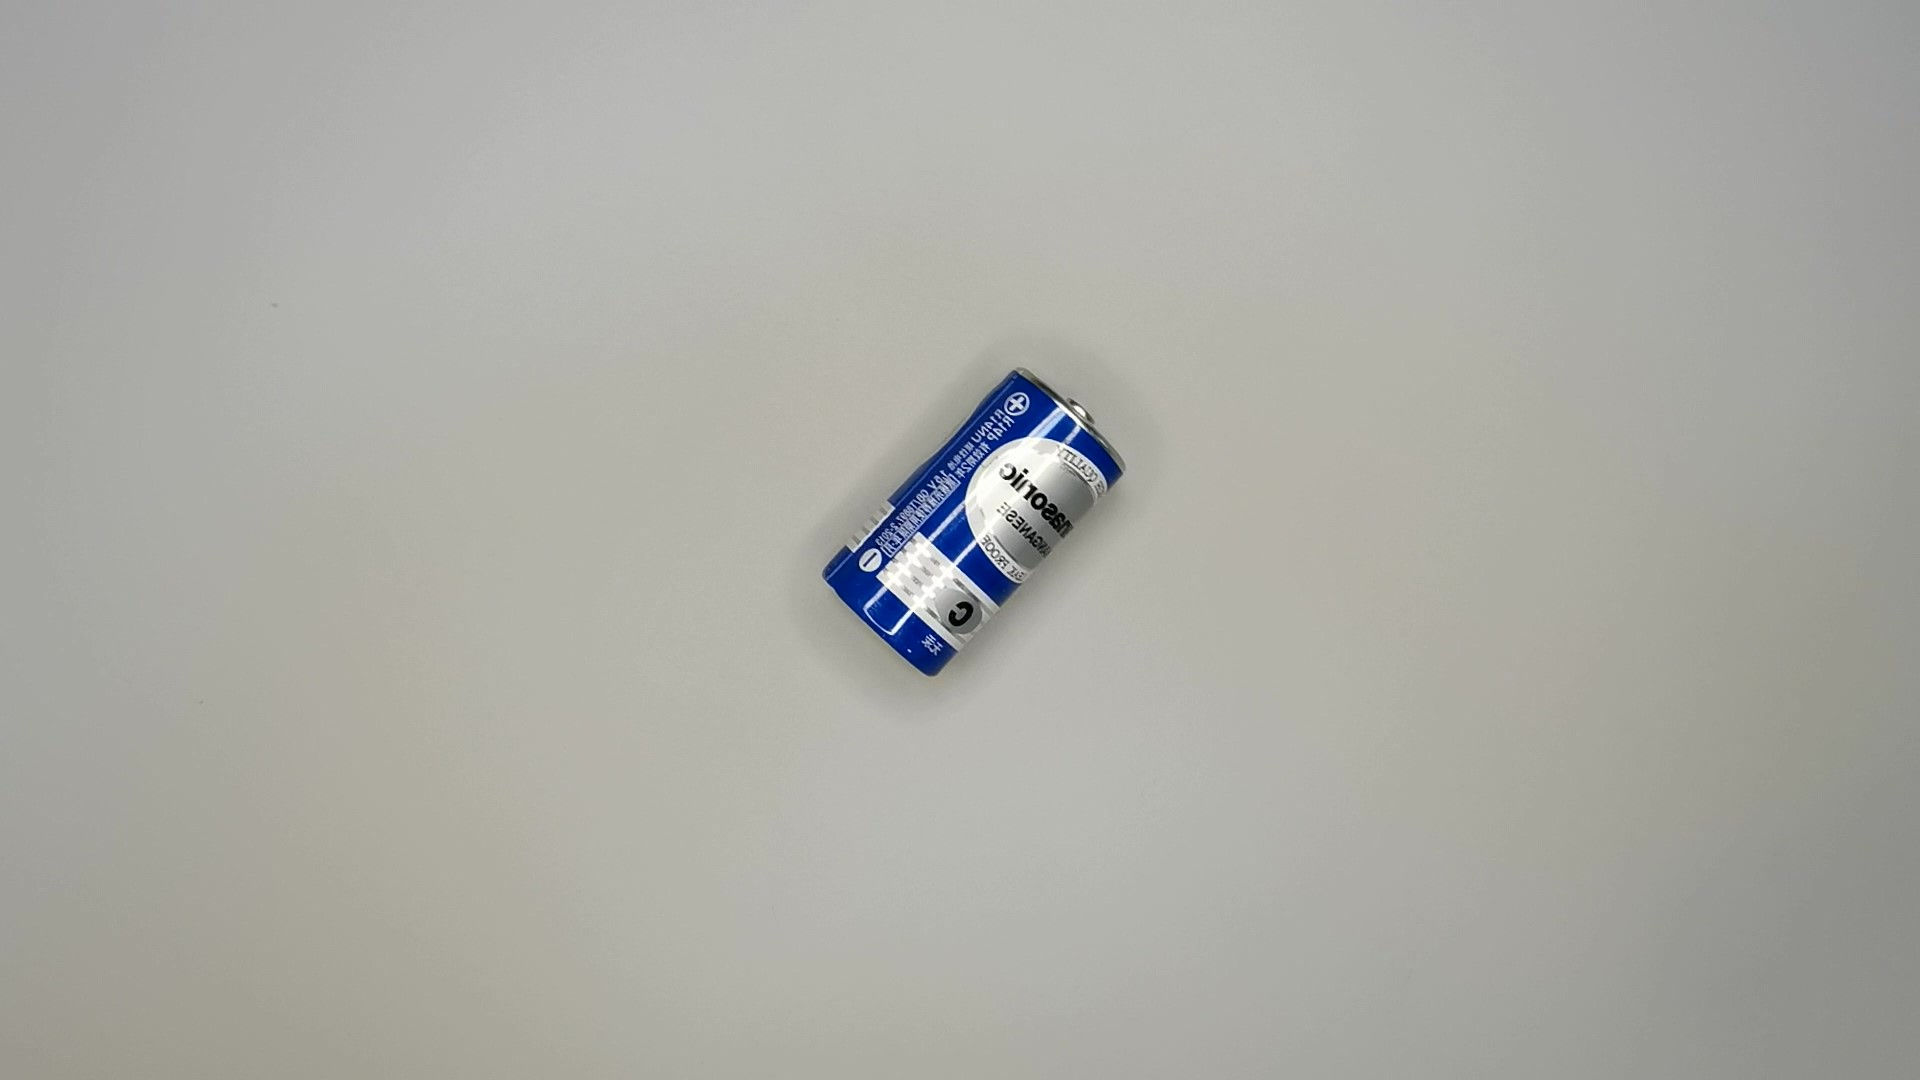battery: (822, 363, 1133, 683)
